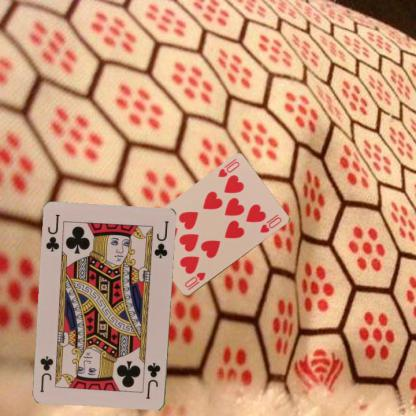10h: (215, 159, 241, 179), (182, 270, 207, 289)
Jc: (43, 212, 62, 253), (144, 361, 162, 401)
